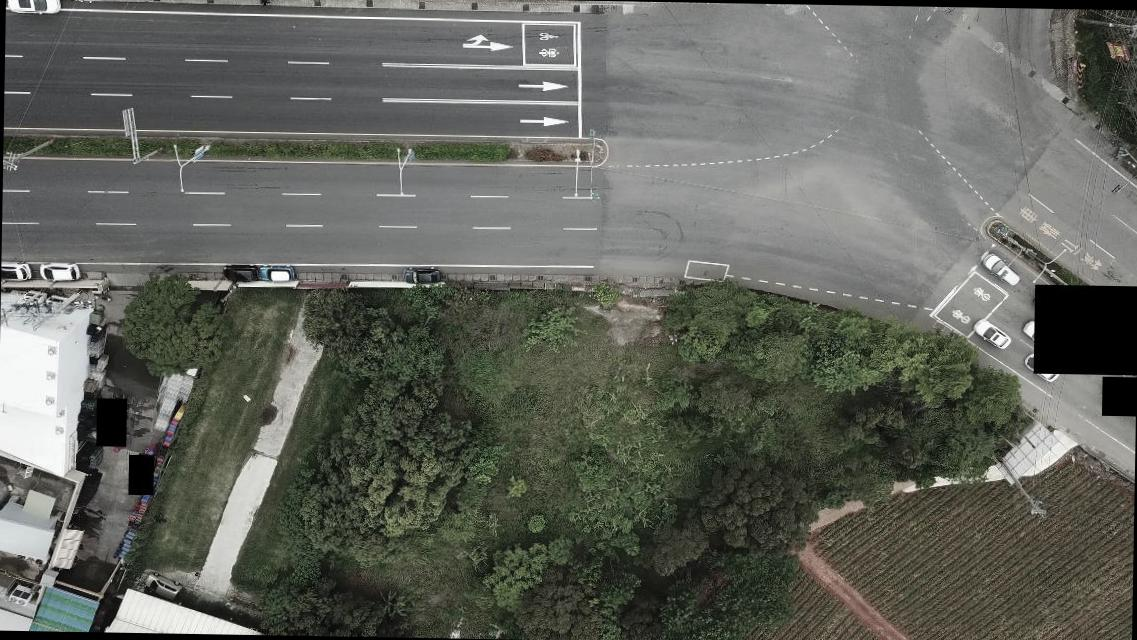vehicle: (970, 316, 1013, 351), (982, 253, 1022, 287), (1020, 320, 1060, 350), (1023, 352, 1060, 380), (6, 0, 61, 17), (40, 260, 80, 282), (257, 264, 297, 284), (221, 264, 260, 283), (403, 266, 444, 284), (2, 259, 31, 283)
